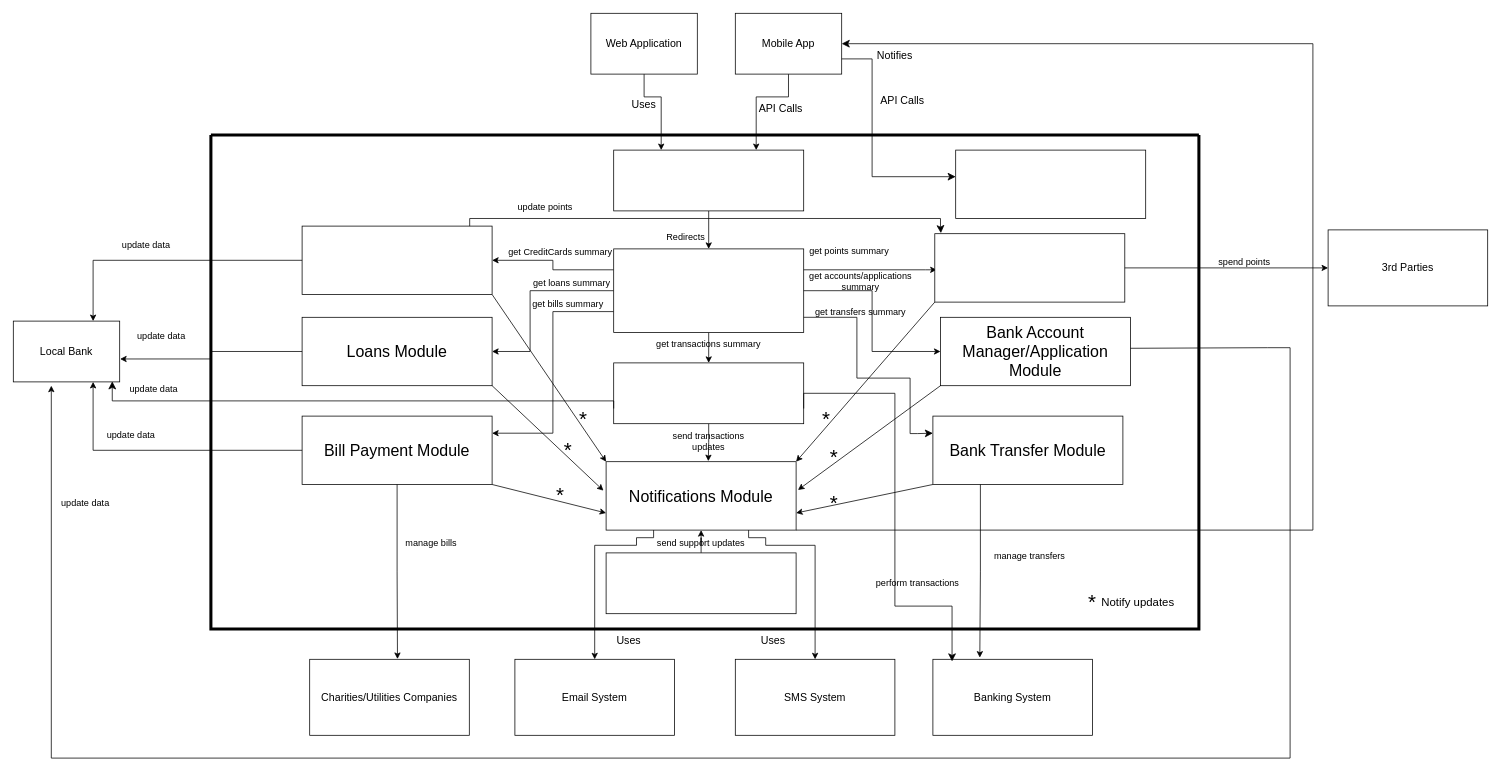
Image size: 1501x777. Some labels were removed from this diagram. Here are the shapes that lost their labels. From the top down, the box of each, then its label:
(613, 149, 804, 211): Registration/Login Module
(955, 149, 1146, 218): Text To Speech Integration Module
(301, 225, 492, 294): Credit Cards Module
(934, 233, 1125, 302): Points Management Module
(613, 248, 804, 332): DashBoard Module
(613, 362, 804, 424): Transactions Module
(605, 552, 796, 614): Support Module
